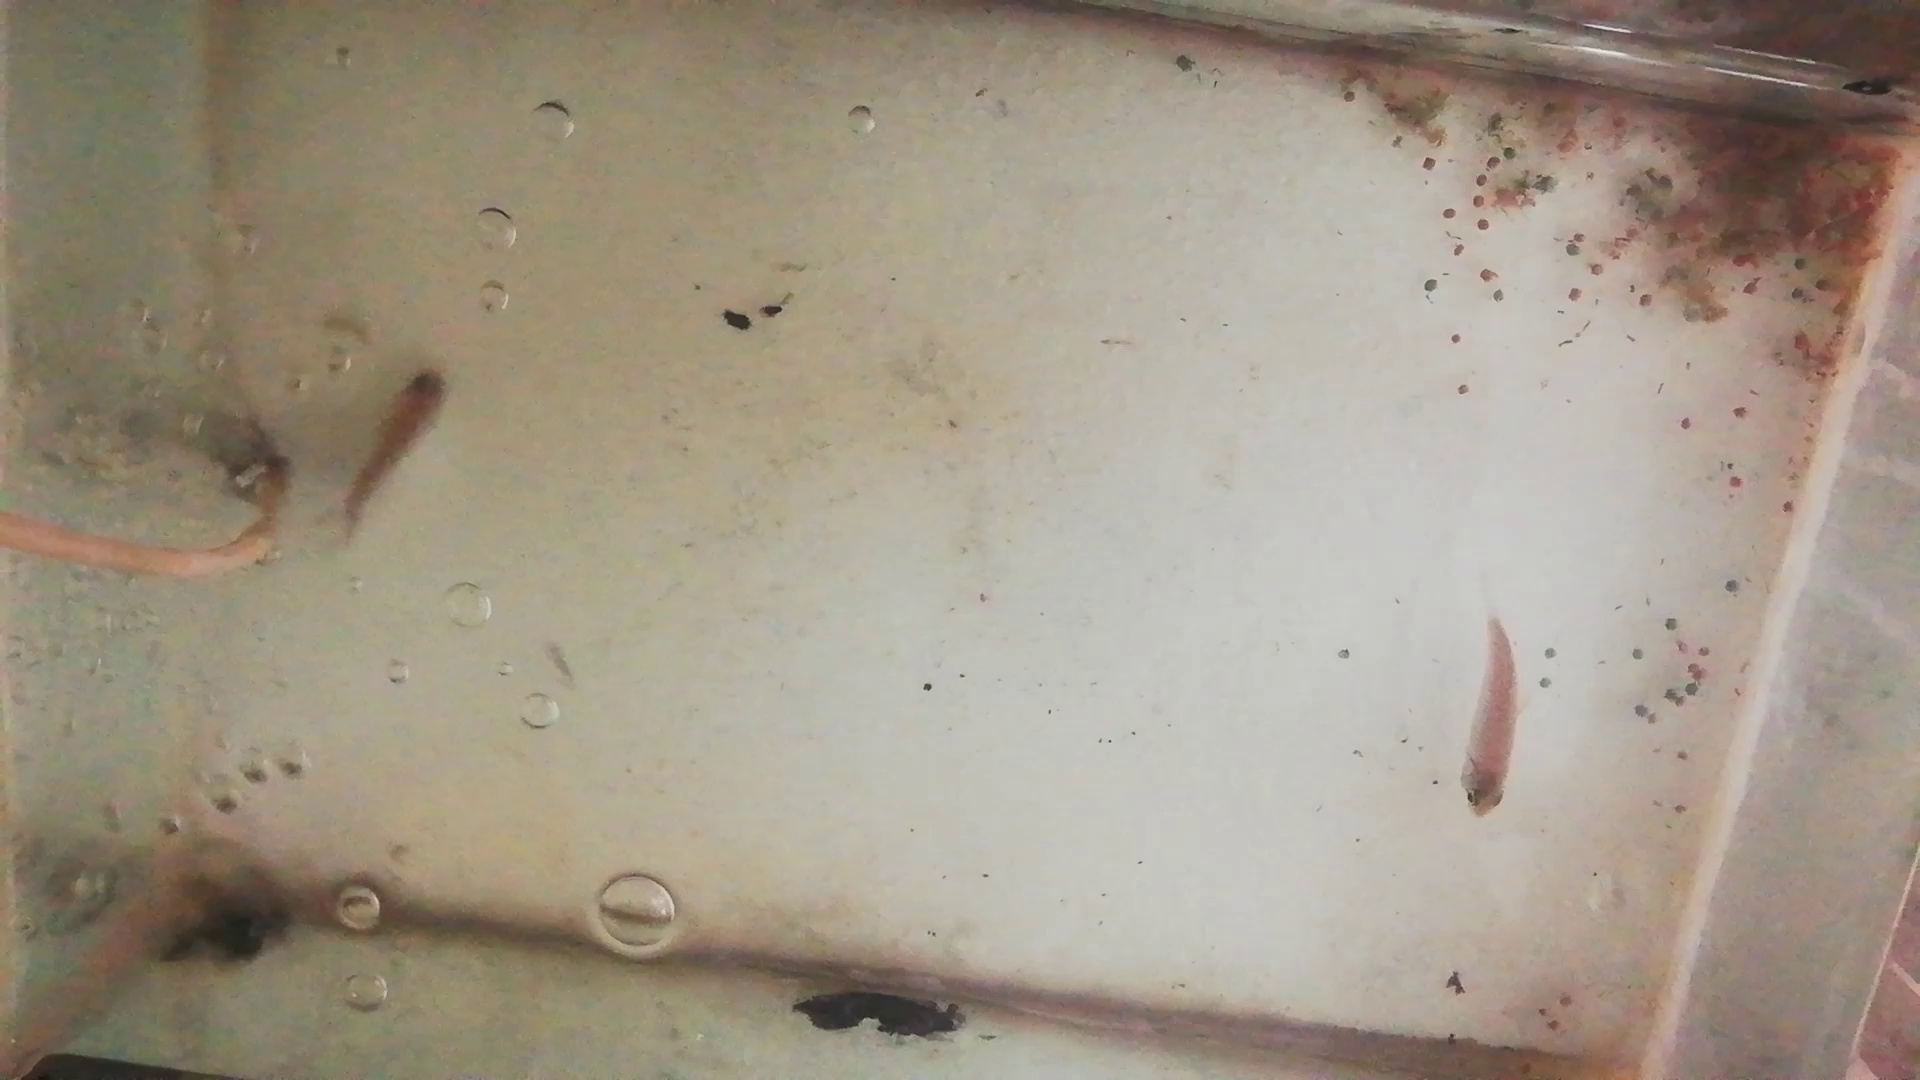fish: (326, 363, 452, 530), (1462, 621, 1520, 818)
